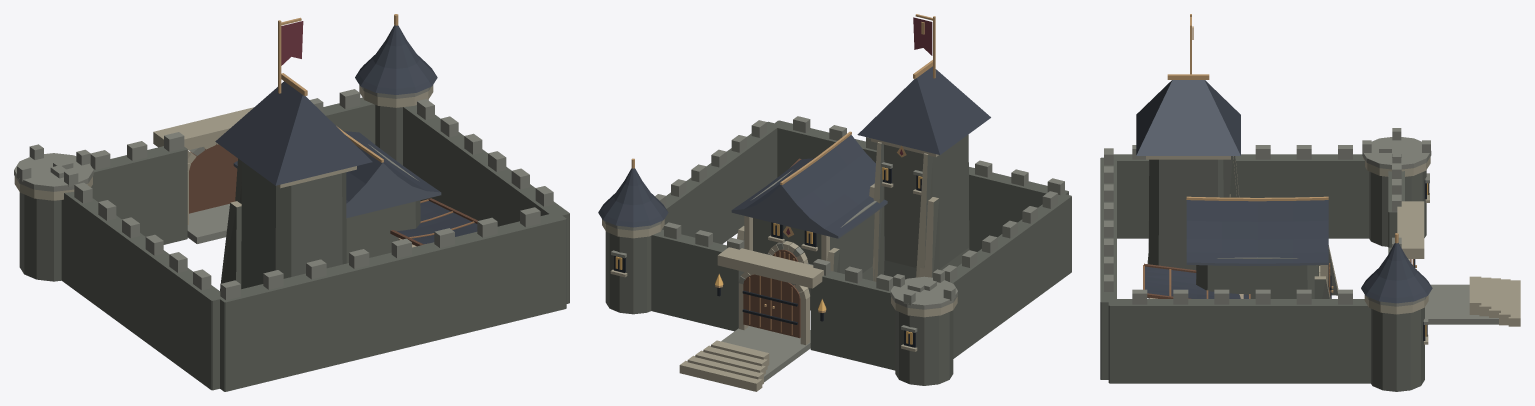
The model's file is AshenBastion_2.obj.
3 views of the same model, side by side, from view 1: azimuth 30°, elevation 25°; view 2: azimuth 150°, elevation 25°; view 3: azimuth 270°, elevation 25° (orthographic). The views are drawn at different scales.
Parts seen in each view (by area): view 1: AshenBastion_2; view 2: AshenBastion_2; view 3: AshenBastion_2.
Boxes of the visible parts, x1,y1,x2,y2 form: AshenBastion_2: [14, 14, 569, 391]; AshenBastion_2: [598, 14, 1071, 391]; AshenBastion_2: [1100, 14, 1520, 391].
Bounding box in the file's own units: 17.36 × 12.34 × 17.65.
